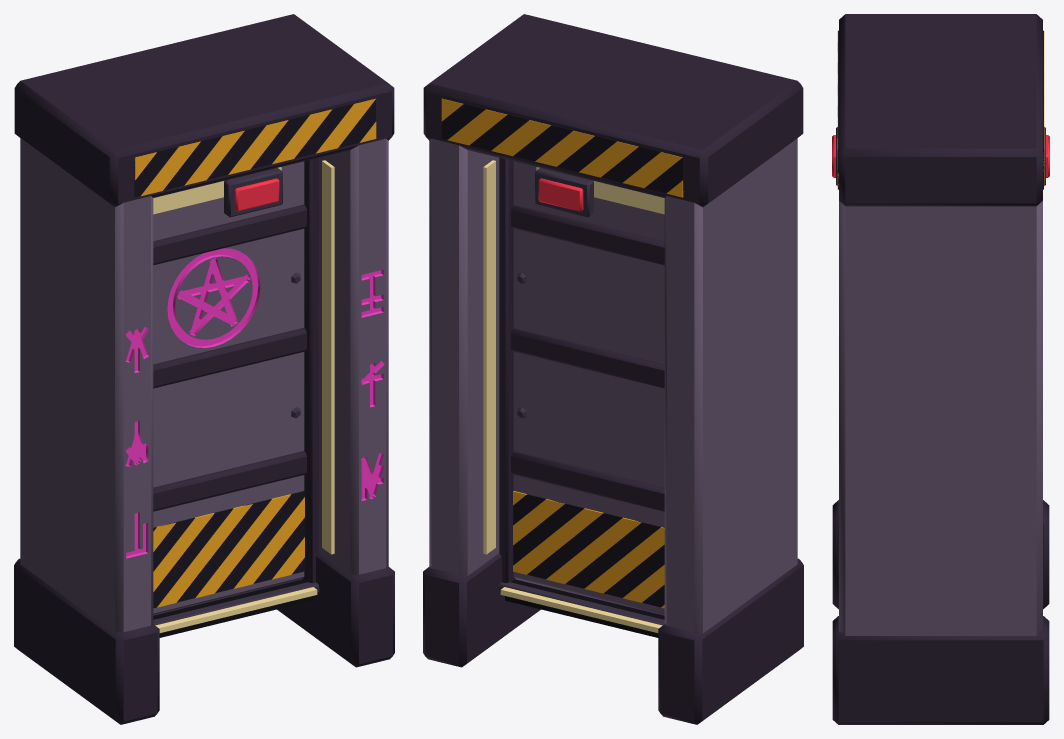
File: door__lower.glb
The picture shows the model from 3 angles, left to right: view 1: azimuth 30°, elevation 25°; view 2: azimuth 150°, elevation 25°; view 3: azimuth 270°, elevation 25°; orthographic projection.
Visible parts, largest first — view 1: Frame, Panel; view 2: Frame, Panel; view 3: Frame.
Part boxes in pixels (<box>): Frame: <box>14,14,394,724</box>; Panel: <box>153,161,306,615</box>; Frame: <box>423,14,803,724</box>; Panel: <box>511,161,664,615</box>; Frame: <box>832,14,1049,724</box>.
Size of the model in its own units: 1.04 by 2 by 0.684.
